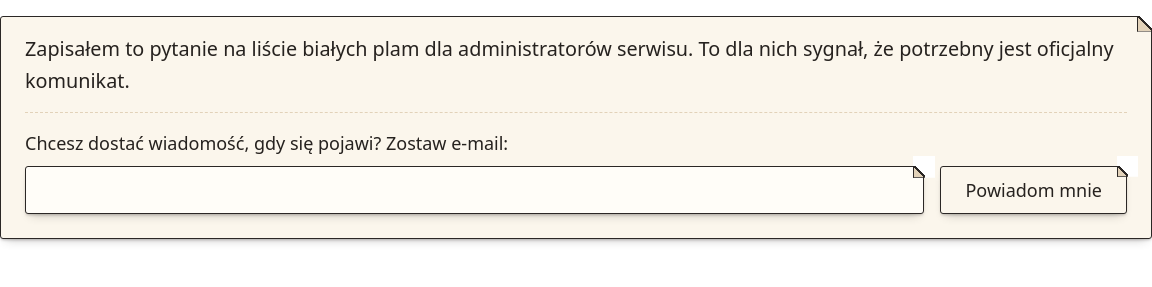
Test: CaseNotice: zapisano a przekazano › atrapa e-mail: walidacja, potwierdzenie z metką Prototyp, bez sieci i bez localStorage
Type "zly-adres" into the field labelled "Chcesz dostać wiadomość, gdy się pojawi? Zostaw e-mail:" at [475, 190], box [26, 167, 924, 212]
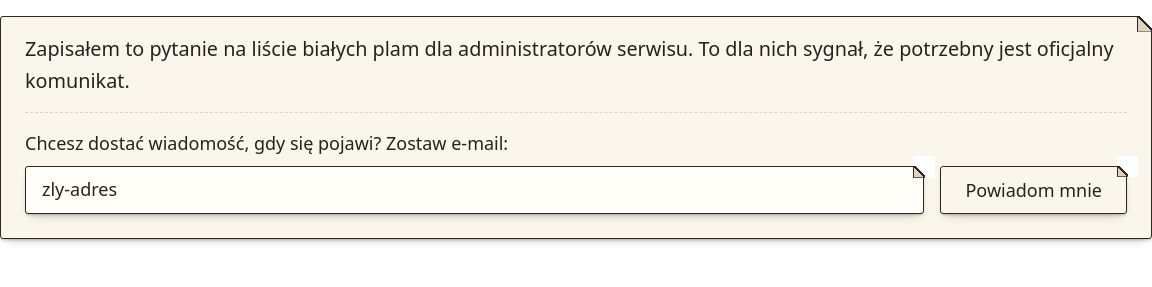
Click the button "Powiadom mnie" at [1034, 190], box [940, 166, 1127, 214]
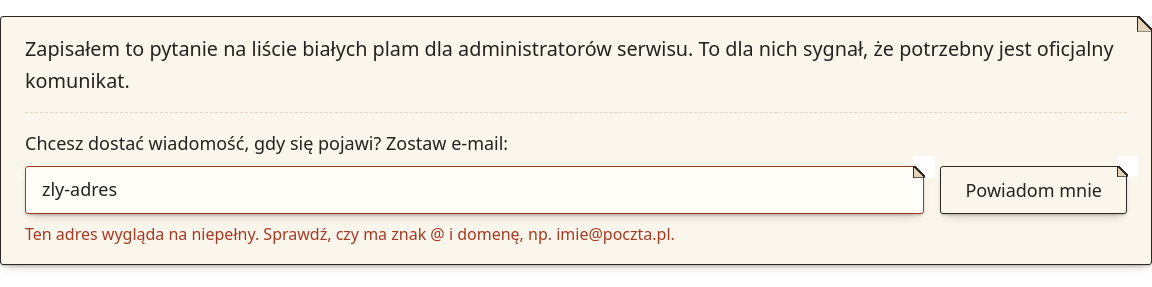
expect the text "Ten adres wygląda na niepełny. Sprawdź, czy ma znak @ i domenę, np. imie@poczta.pl." is shown: met, box [25, 223, 675, 245]
Replace the text in the field labelled "Chcesz dostać wiadomość, gdy się pojawi? Zostaw e-mail:" with "ala@poczta.pl" at [475, 190], box [26, 167, 924, 212]
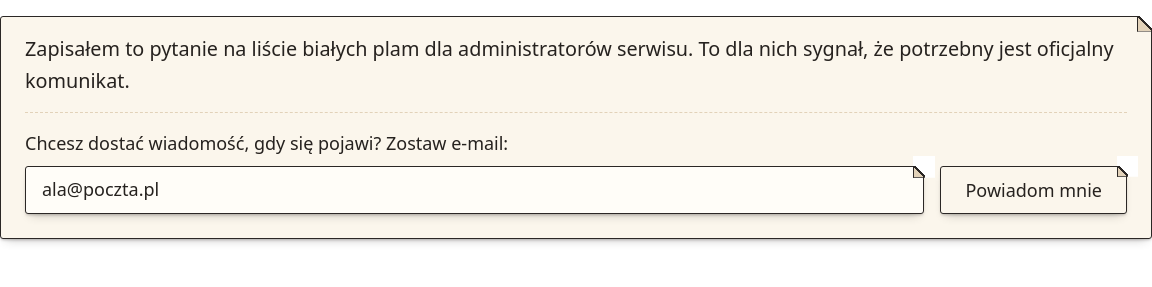
Click the button "Powiadom mnie" at [1034, 190], box [940, 166, 1127, 214]
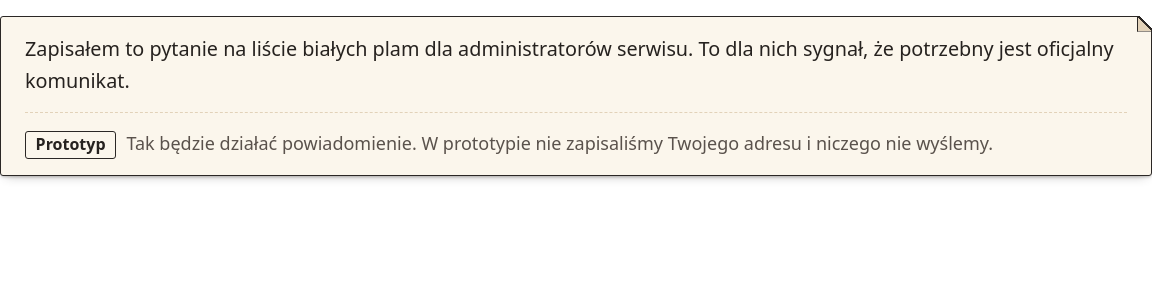
expect the text "Prototyp" is shown: met, box [25, 131, 116, 159]
expect the text "Tak będzie działać powiadomienie. W prototypie nie zapisaliśmy Twojego adresu i niczego nie wyślemy." is shown: met, box [126, 131, 993, 155]
expect the label labelled "Chcesz dostać wiadomość, gdy się pojawi? Zostaw e-mail:" is gone: met
